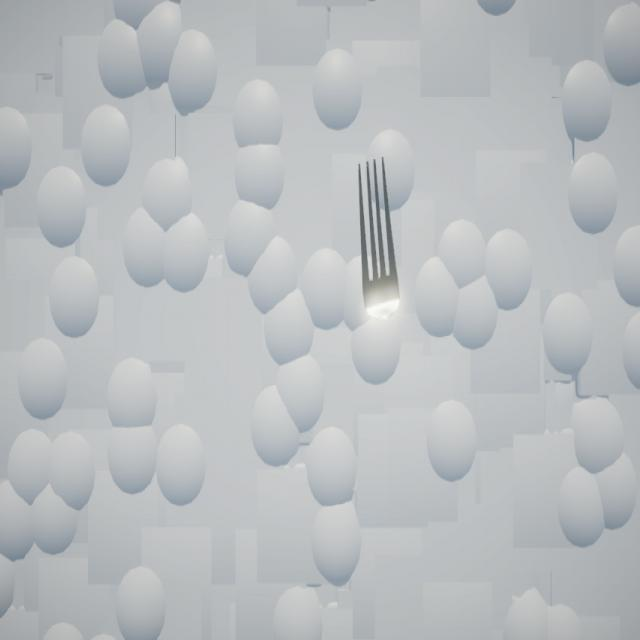top_folk: (360, 158, 401, 322)
